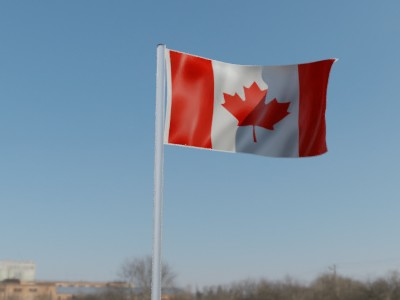Canada flag: (166, 48, 339, 160)
